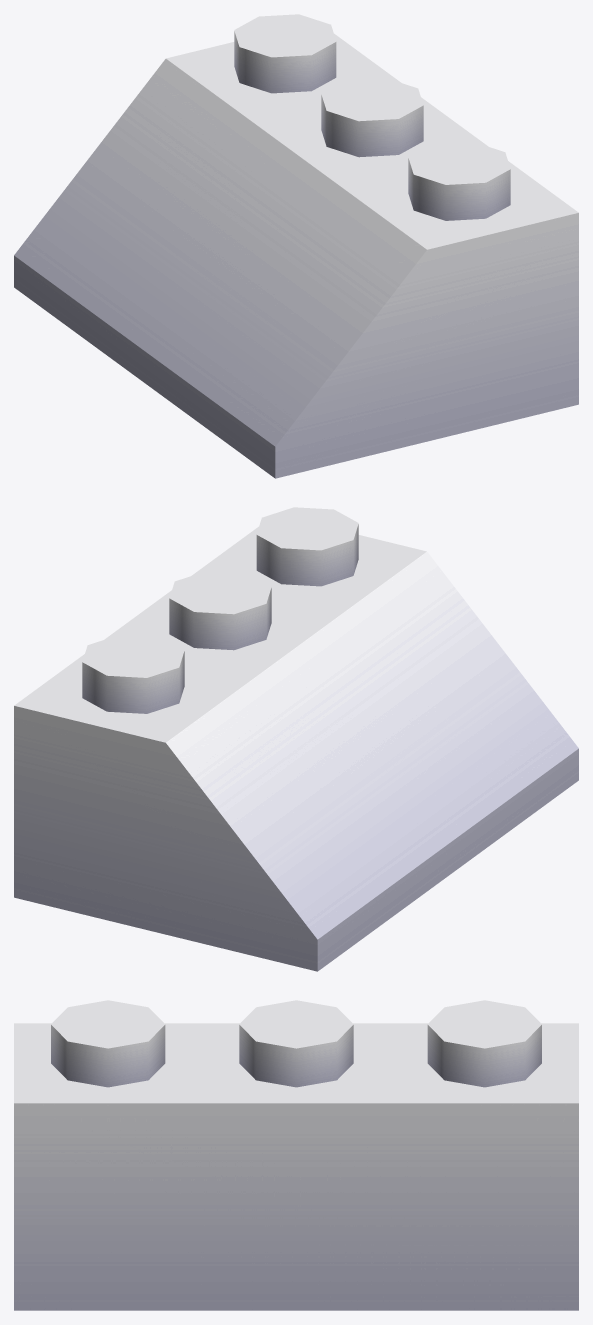
File: round_lq_brick_slope_2x3.glb
3 renders of one model, top to bottom at view 1: azimuth 30°, elevation 25°; view 2: azimuth 150°, elevation 25°; view 3: azimuth 270°, elevation 25°, orthographic. The views are drawn at different scales.
Parts seen in each view (by area): view 1: round-lq-brick-slope-2x3; view 2: round-lq-brick-slope-2x3; view 3: round-lq-brick-slope-2x3.
Boxes of the visible parts, left/top/right/bottom form: round-lq-brick-slope-2x3: left=14, top=14, right=578, bottom=478; round-lq-brick-slope-2x3: left=14, top=507, right=578, bottom=971; round-lq-brick-slope-2x3: left=14, top=1000, right=578, bottom=1310.
Size of the model in its own units: 0.159 by 0.114 by 0.237.
Materials: 1 (1 with a texture image).
